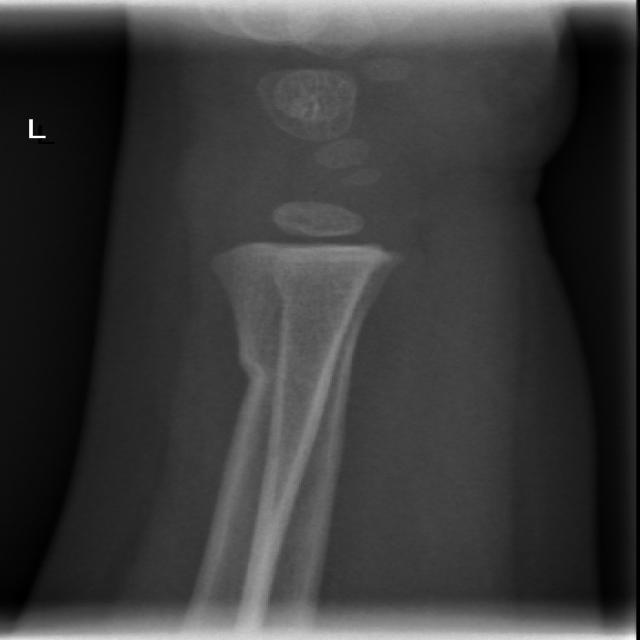radius fracture: (208, 284, 390, 443)
